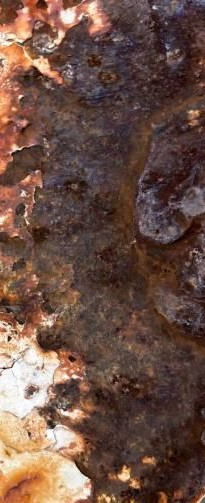Corrosion: (1, 1, 205, 503)
